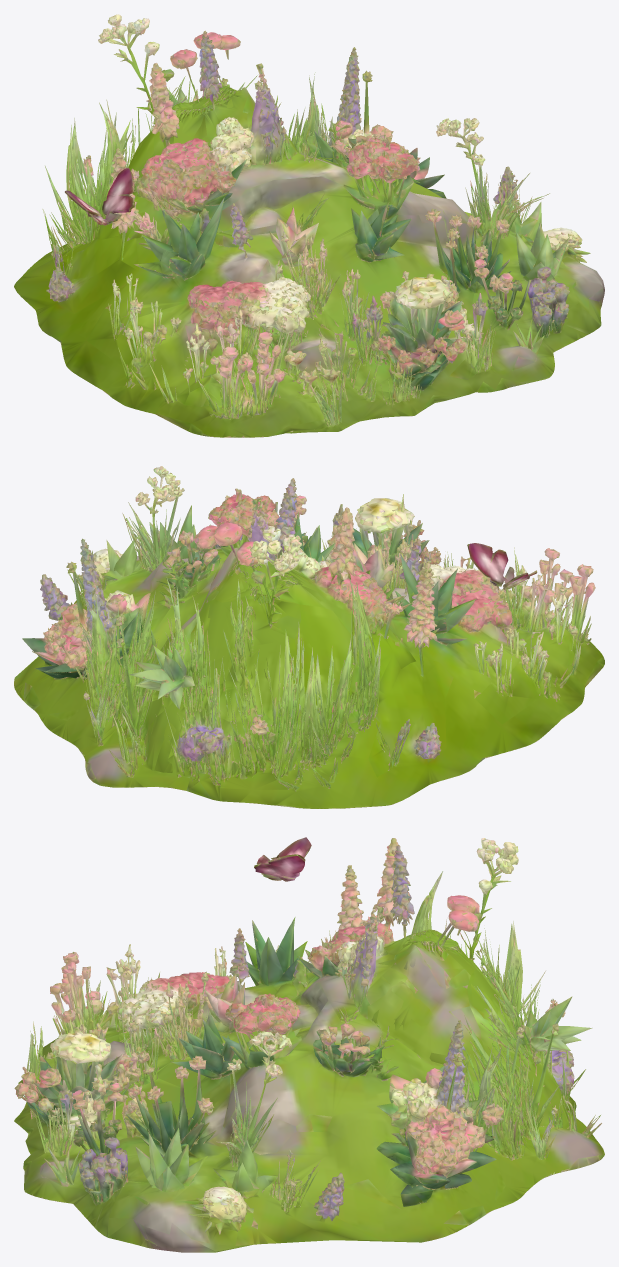
The model's file is wildflower-meadow.glb.
3 renders of one model, top to bottom at view 1: azimuth 30°, elevation 25°; view 2: azimuth 150°, elevation 25°; view 3: azimuth 270°, elevation 25°, orthographic. The views are drawn at different scales.
Visible parts, largest first — view 1: Mesh_0.001; view 2: Mesh_0.001; view 3: Mesh_0.001.
Boxes of the visible parts, bbox=[...] form: Mesh_0.001: bbox=[14, 14, 604, 437]; Mesh_0.001: bbox=[14, 466, 604, 808]; Mesh_0.001: bbox=[14, 837, 604, 1252].
Size of the model in its own units: 0.765 by 0.3996 by 0.7816.
Materials: 1 (1 with a texture image).
